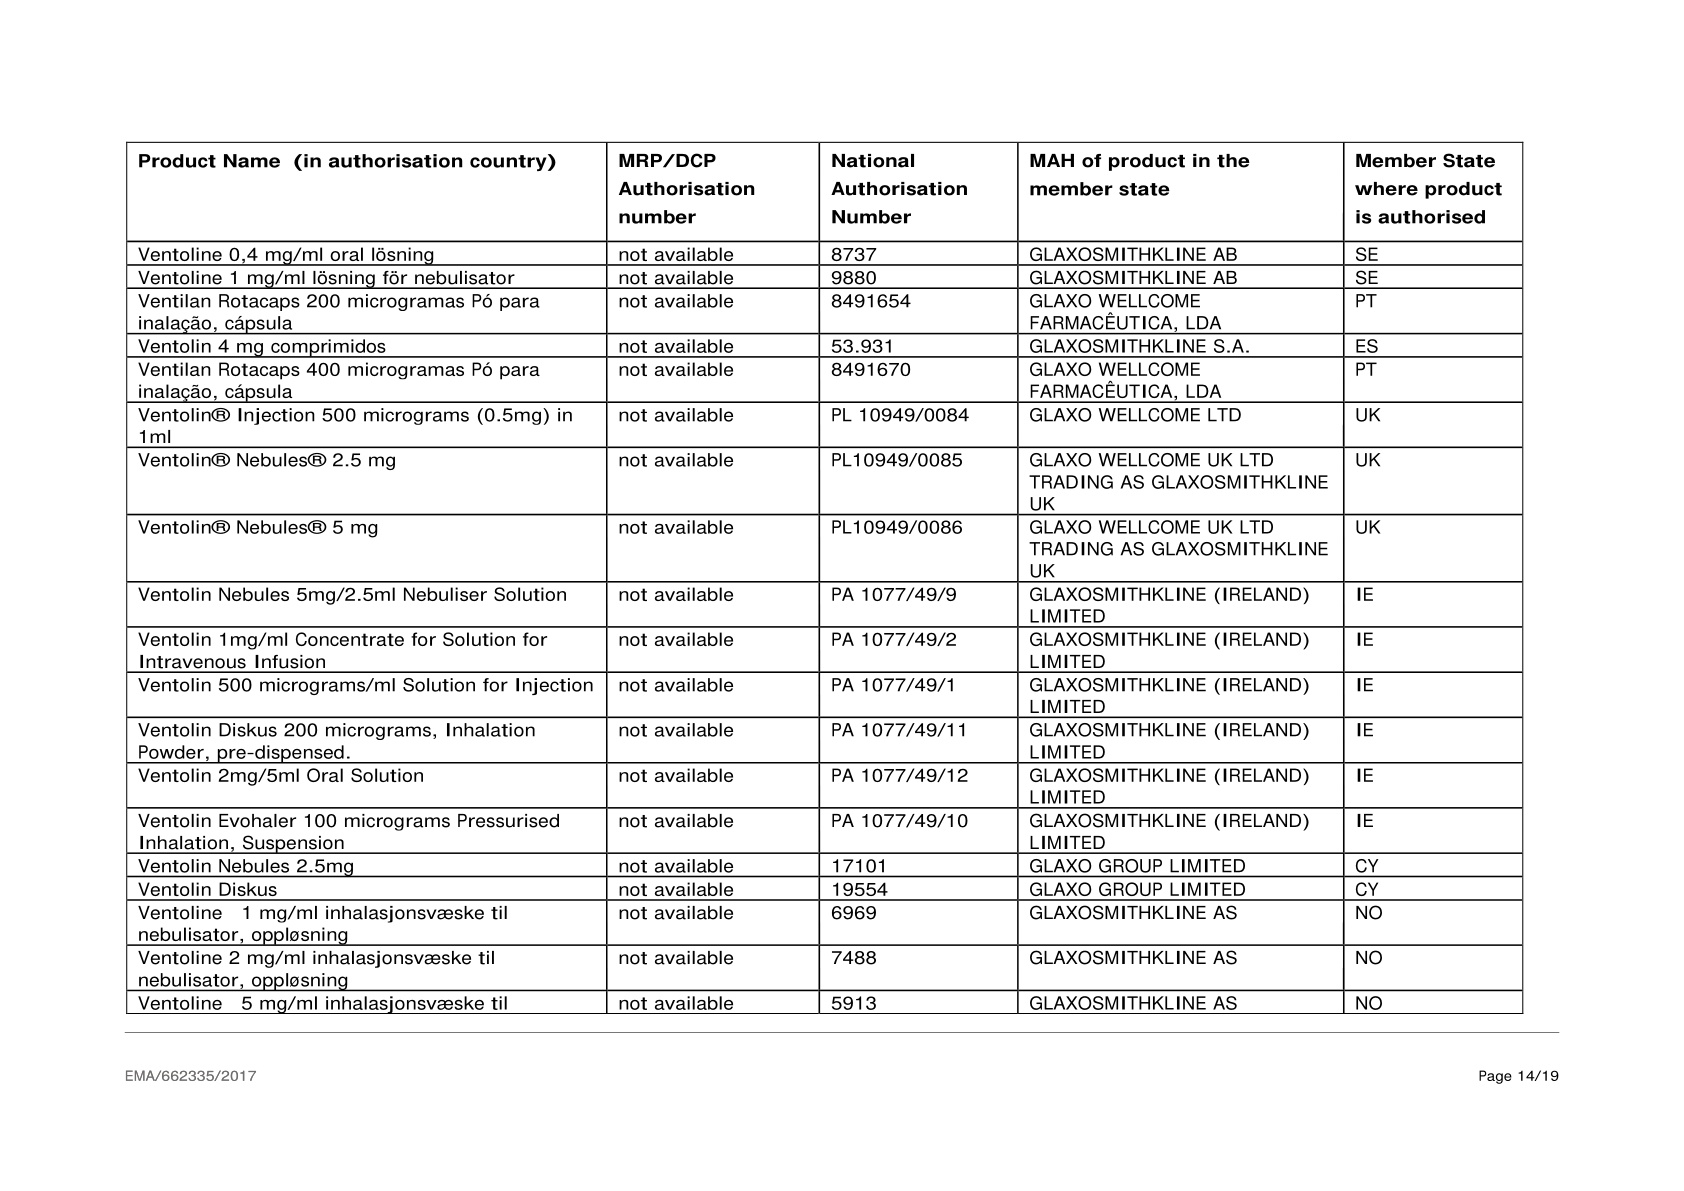full_lined: (126, 140, 1524, 1014)
